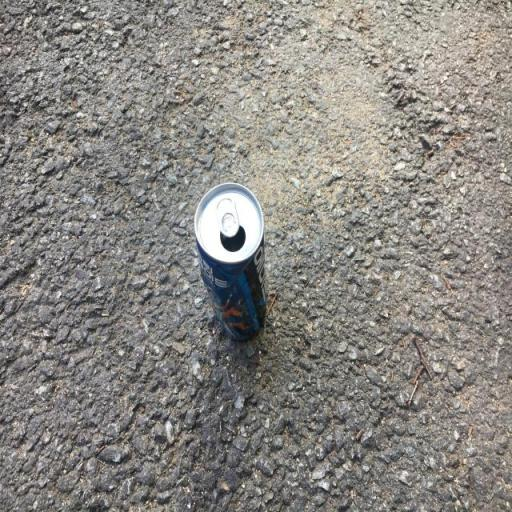metal: (188, 160, 278, 352)
